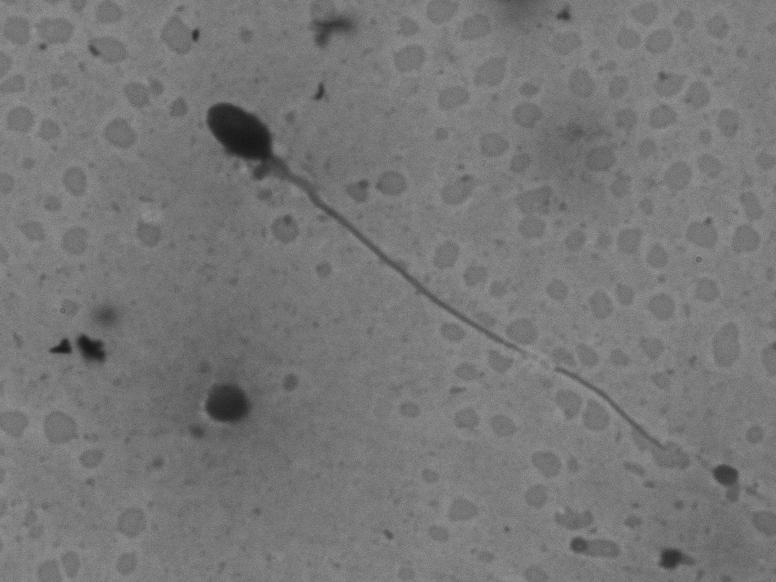Abnormal: (181, 70, 703, 470)
